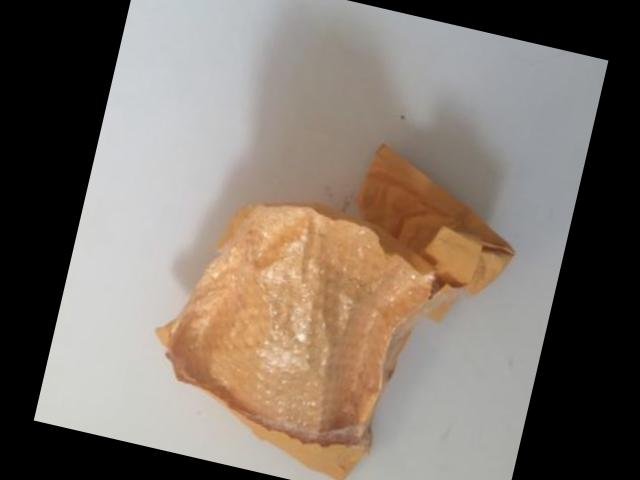cardboard paper: (154, 147, 509, 480)
